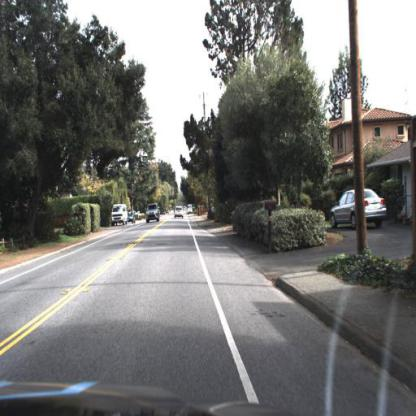car: (330, 189, 387, 233), (109, 203, 131, 230), (144, 201, 163, 226), (111, 202, 128, 229), (173, 205, 187, 224), (127, 210, 138, 229)
